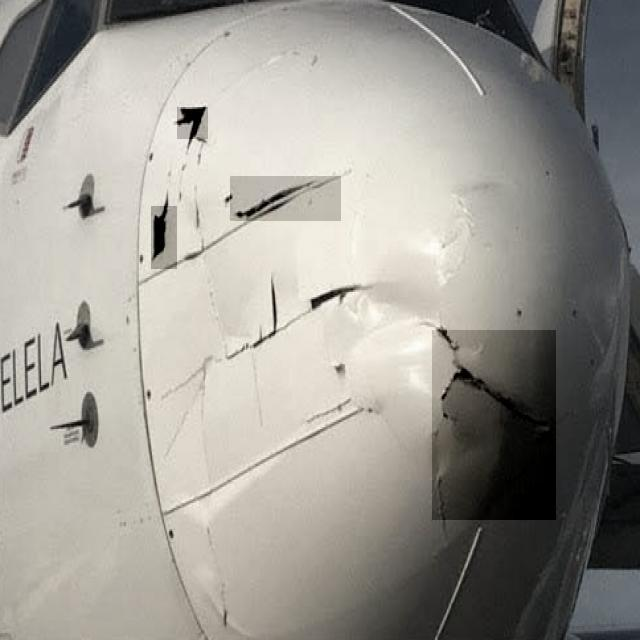crack: (433, 332, 557, 522), (231, 177, 342, 222), (152, 207, 178, 270), (178, 108, 209, 140)
